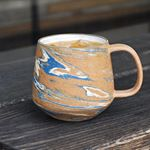cups: (28, 33, 147, 124)
